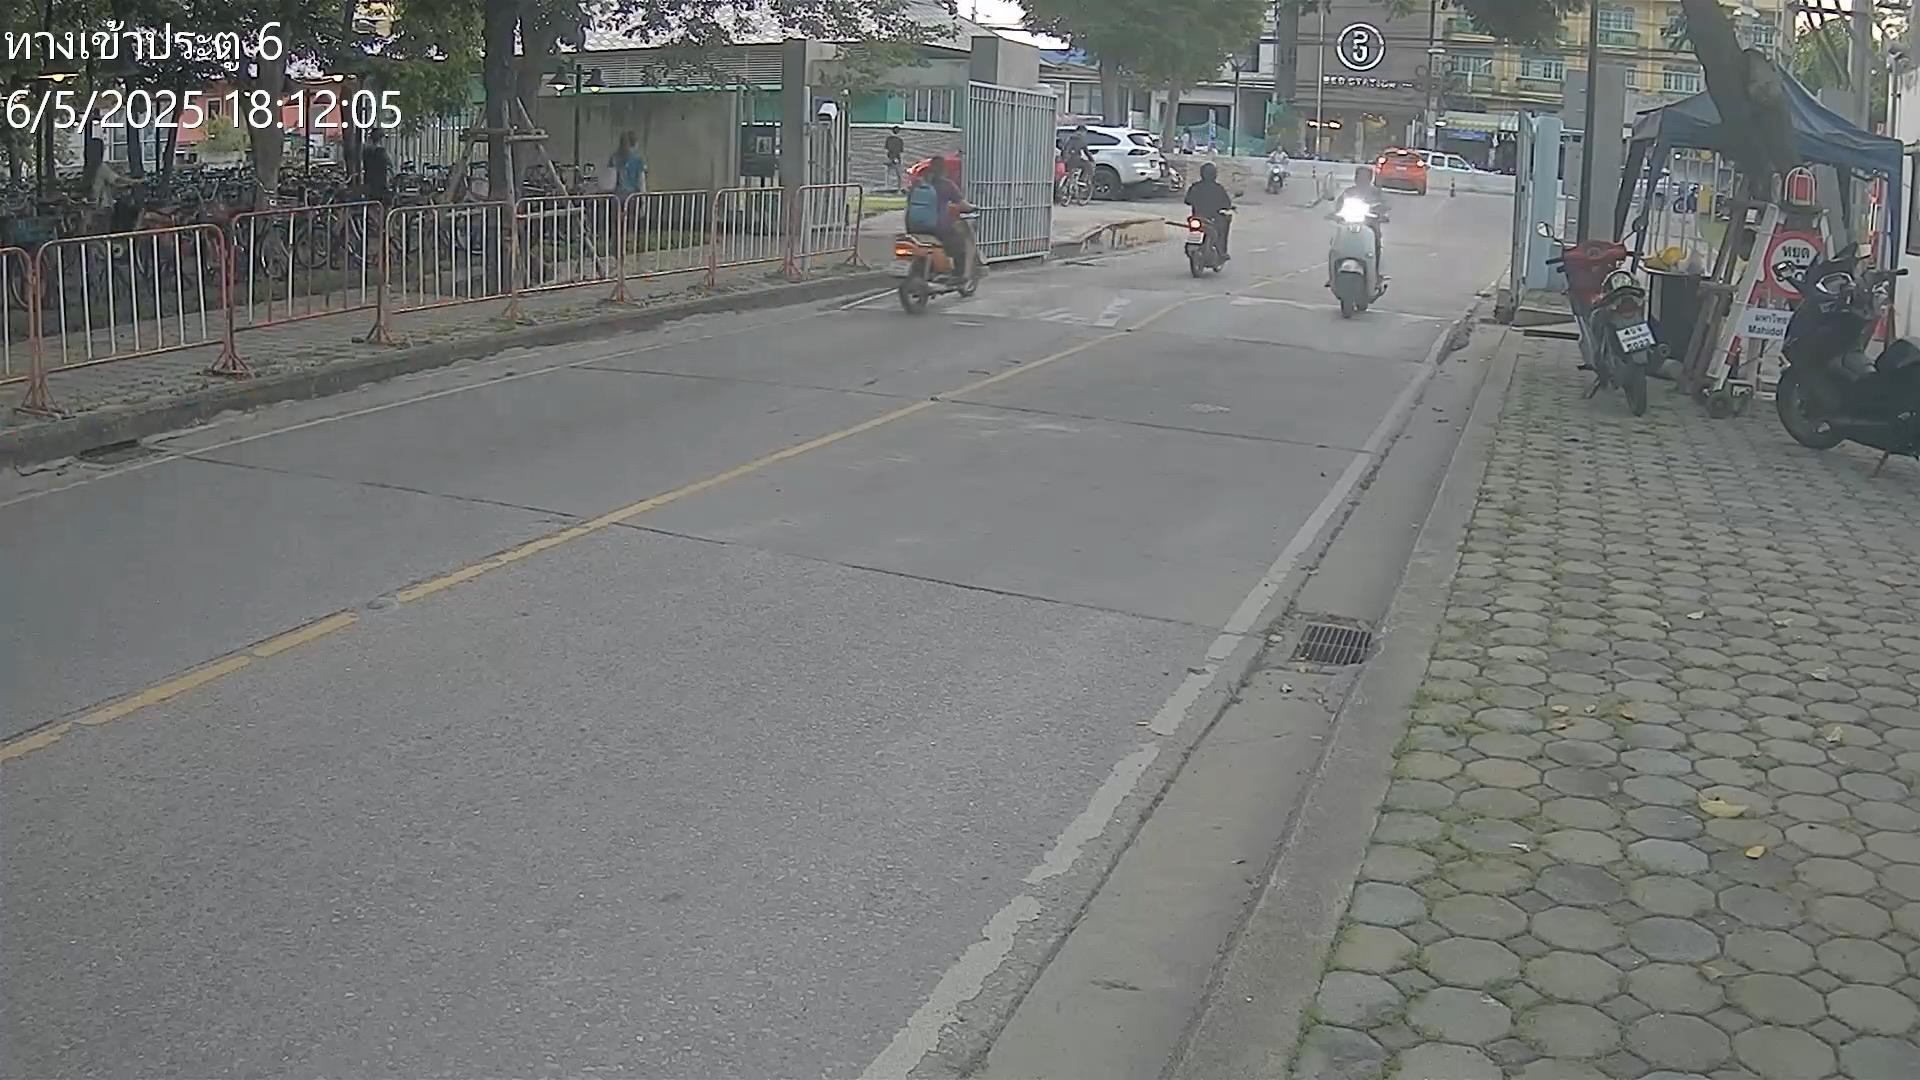With-Helmet: (1200, 160, 1218, 182)
